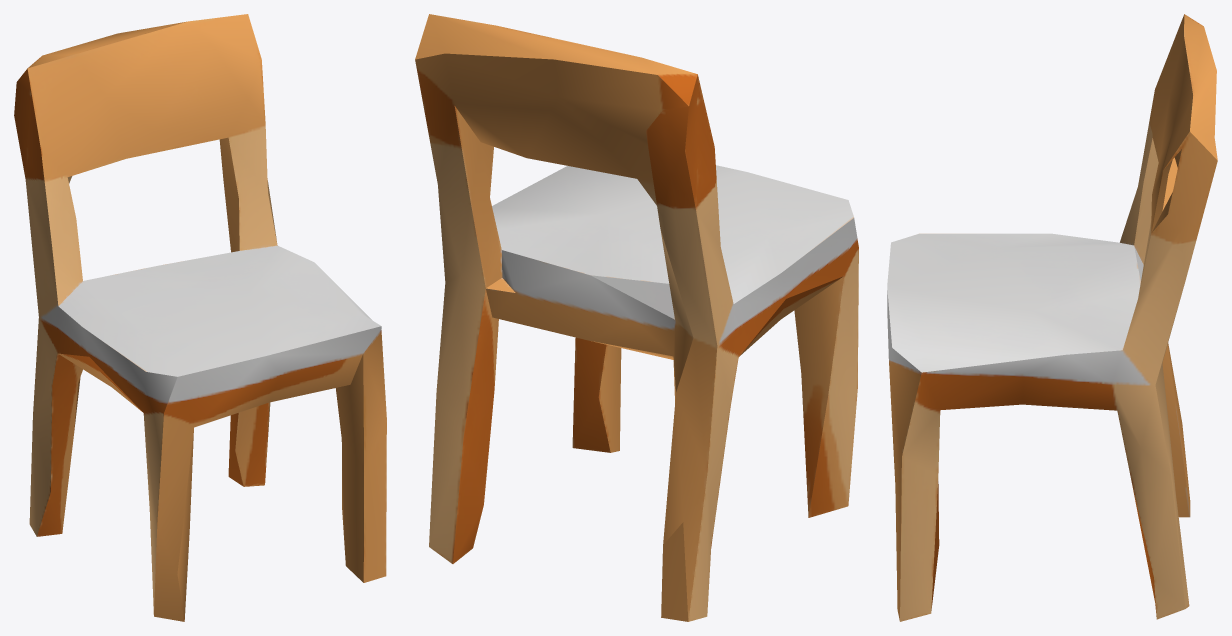
File: koivu-dining-chair.glb
The picture shows the model from 3 angles, left to right: view 1: azimuth 30°, elevation 25°; view 2: azimuth 150°, elevation 25°; view 3: azimuth 270°, elevation 25°; orthographic projection. The views are drawn at different scales.
Visible parts, largest first — view 1: geometry_0; view 2: geometry_0; view 3: geometry_0.
Boxes of the visible parts, bbox=[...] form: geometry_0: bbox=[14, 14, 386, 621]; geometry_0: bbox=[415, 14, 858, 621]; geometry_0: bbox=[887, 14, 1217, 621].
Bounding box in the file's own units: 0.5353 × 1 × 0.6041.
Materials: 1 (1 with a texture image).
